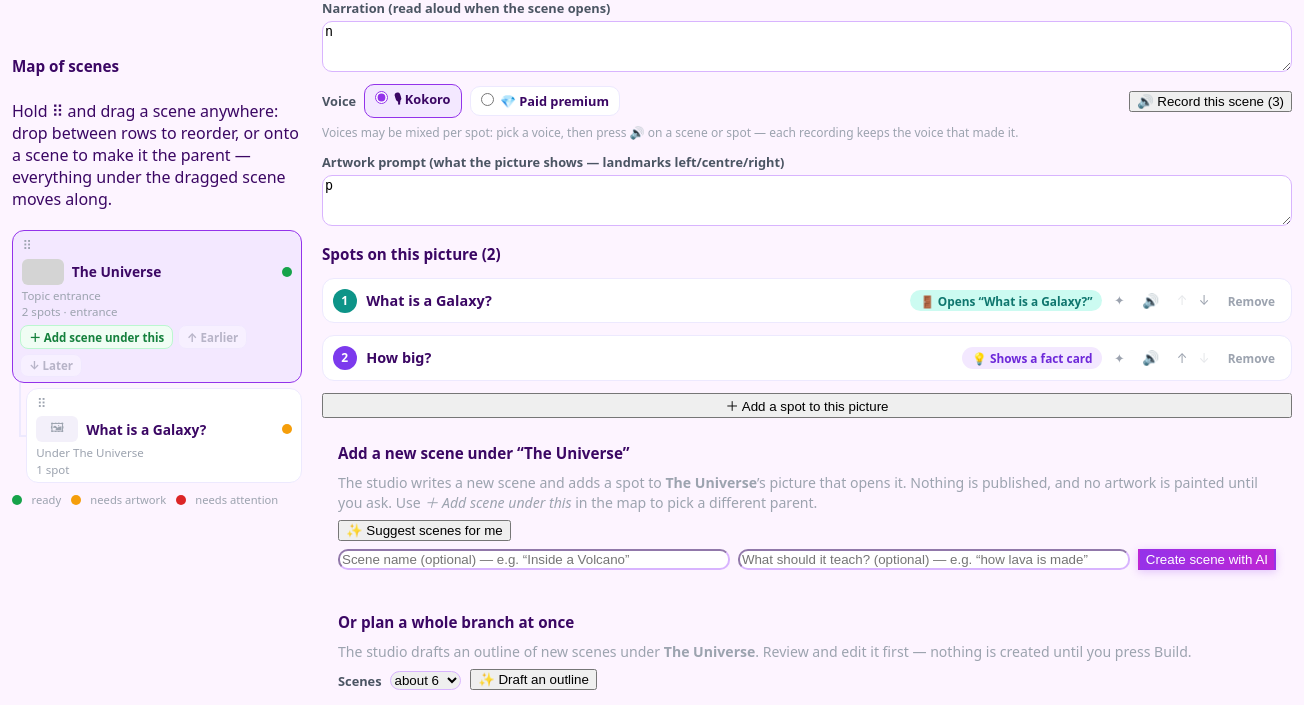
Test: WikidoStudio — plain-language editor › Topic Builder › drafts an editable outline and creates nothing until Build is pressed
(page scrolled)
Click the button "✨ Draft an outline" at (533, 680), box [470,669,597,690]
(page scrolled)
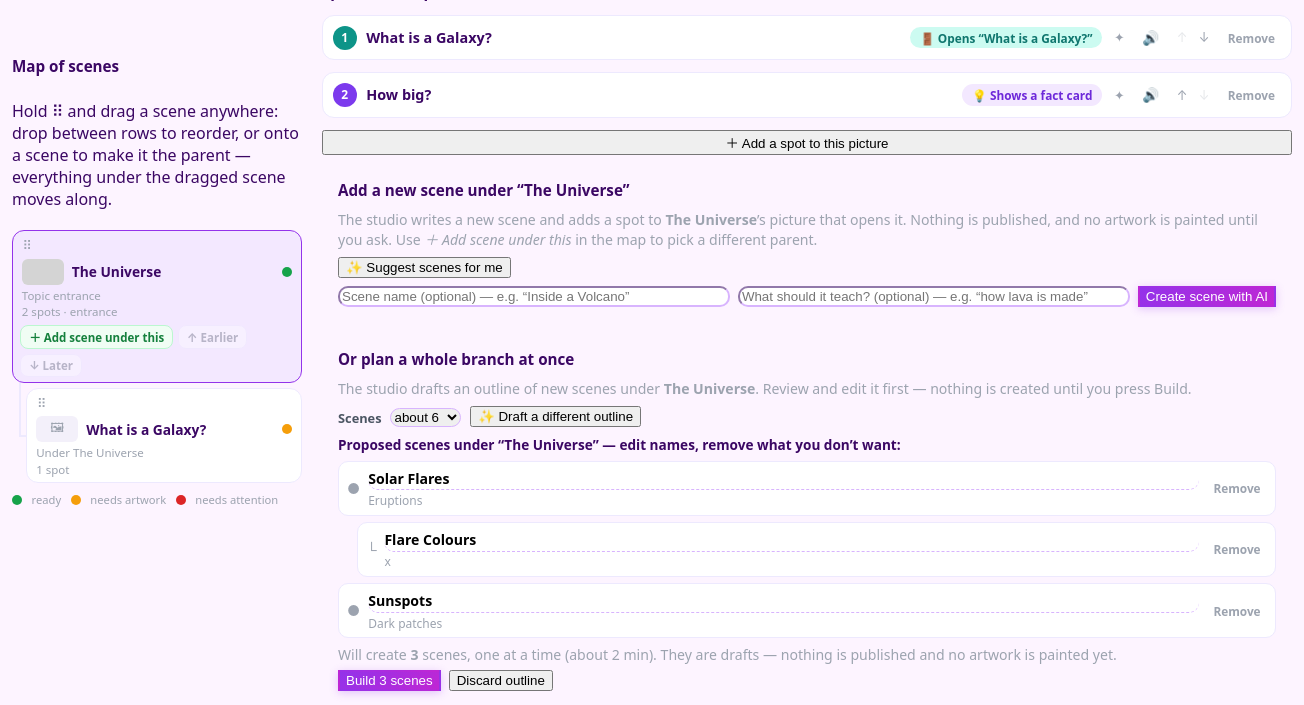
expect the number of elements with class "outline-row" is 3: met, box [338,460,1276,516]; [357,522,1276,577]; [338,583,1276,638]
expect the element with class "outline" shows "Will create 3 scenes": met, box [338,435,1276,691]
